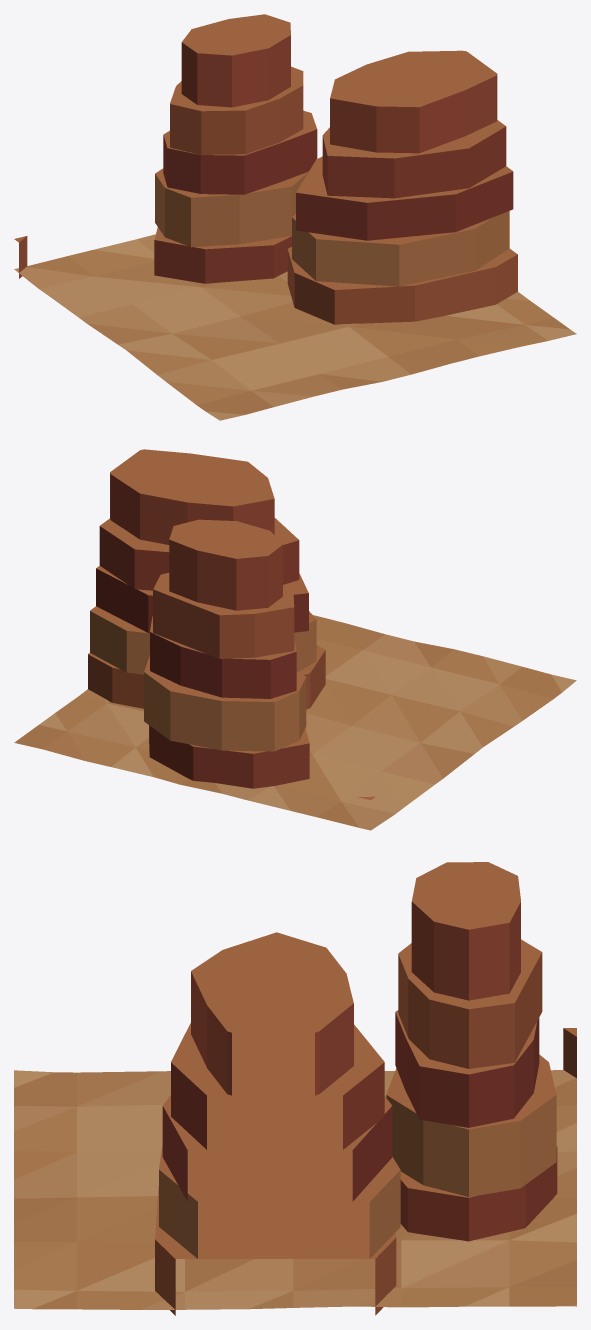
3 views of the same model, one above another, from view 1: azimuth 30°, elevation 25°; view 2: azimuth 150°, elevation 25°; view 3: azimuth 270°, elevation 25° (orthographic). The views are drawn at different scales.
Parts seen in each view (by area): view 1: baked; view 2: baked; view 3: baked.
Boxes of the visible parts, x1,y1,x2,y2 form: baked: (14,14,576,420); baked: (14,449,576,830); baked: (14,862,576,1315).
Bounding box in the file's own units: 62.5 × 37.5 × 62.5.
